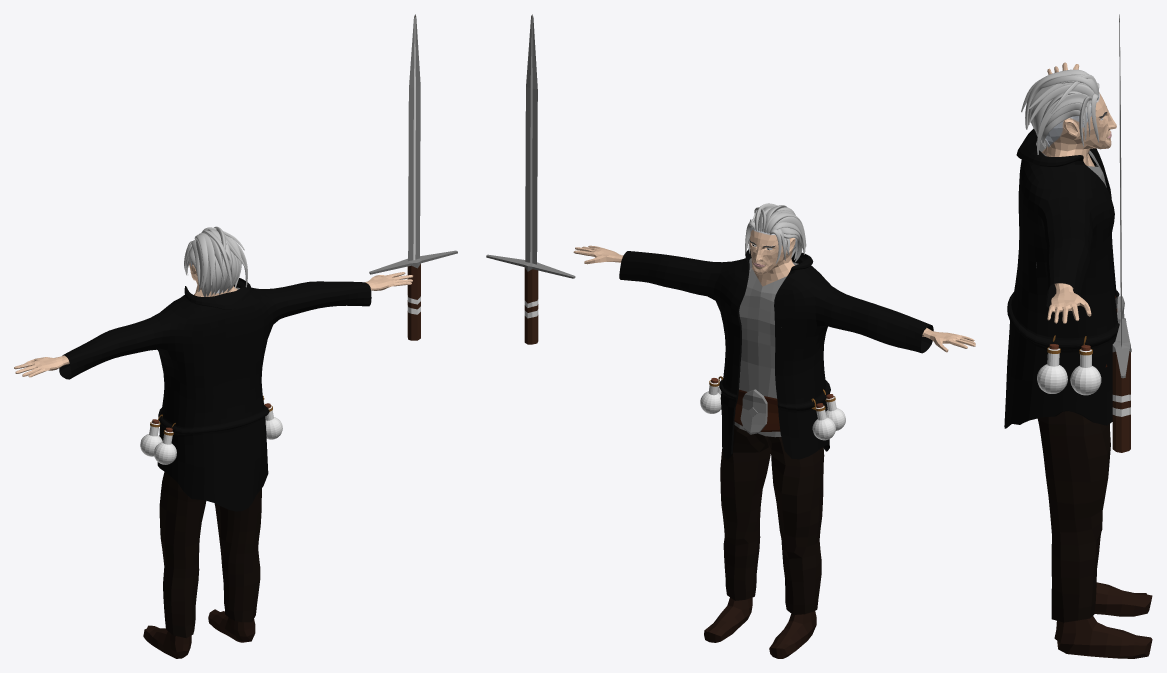
File: bloodhunter-human1.fbx
3 renders of one model, left to right at view 1: azimuth 30°, elevation 25°; view 2: azimuth 150°, elevation 25°; view 3: azimuth 270°, elevation 25°, orthographic. The views are drawn at different scales.
Visible parts, largest first — view 1: hoodie, pants, sword, boots, body; view 2: hoodie, pants, sword, armor, body, boots, Torus; view 3: hoodie, pants, boots, body, sword, potion bottle3, potion bottle4, NurbsPath.022, NurbsPath.003, NurbsPath.018, NurbsPath.005, NurbsPath.025 (+4 smaller).
Boxes of the visible parts, x1,y1,x2,y2 form: hoodie: [59, 278, 371, 511]; pants: [159, 471, 261, 638]; sword: [369, 14, 457, 340]; boots: [143, 609, 255, 658]; body: [14, 252, 412, 377]; hoodie: [619, 249, 933, 459]; pants: [720, 425, 824, 614]; sword: [486, 14, 575, 344]; armor: [734, 258, 798, 437]; body: [573, 227, 975, 352]; boots: [704, 597, 816, 658]; Torus: [723, 389, 780, 434]; hoodie: [1004, 128, 1119, 428]; pants: [1037, 411, 1110, 622]; boots: [1054, 582, 1152, 658]; body: [1040, 62, 1116, 323]; sword: [1112, 14, 1130, 452]; potion bottle3: [1070, 336, 1101, 395]; potion bottle4: [1037, 335, 1067, 393]; NurbsPath.022: [1037, 93, 1091, 154]; NurbsPath.003: [1025, 69, 1088, 129]; NurbsPath.018: [1029, 84, 1094, 122]; NurbsPath.005: [1040, 75, 1098, 99]; NurbsPath.025: [1042, 110, 1080, 143].
Bounding box in the file's own units: 215 × 254 × 44.5.
Materials: 22 (1 with a texture image).
